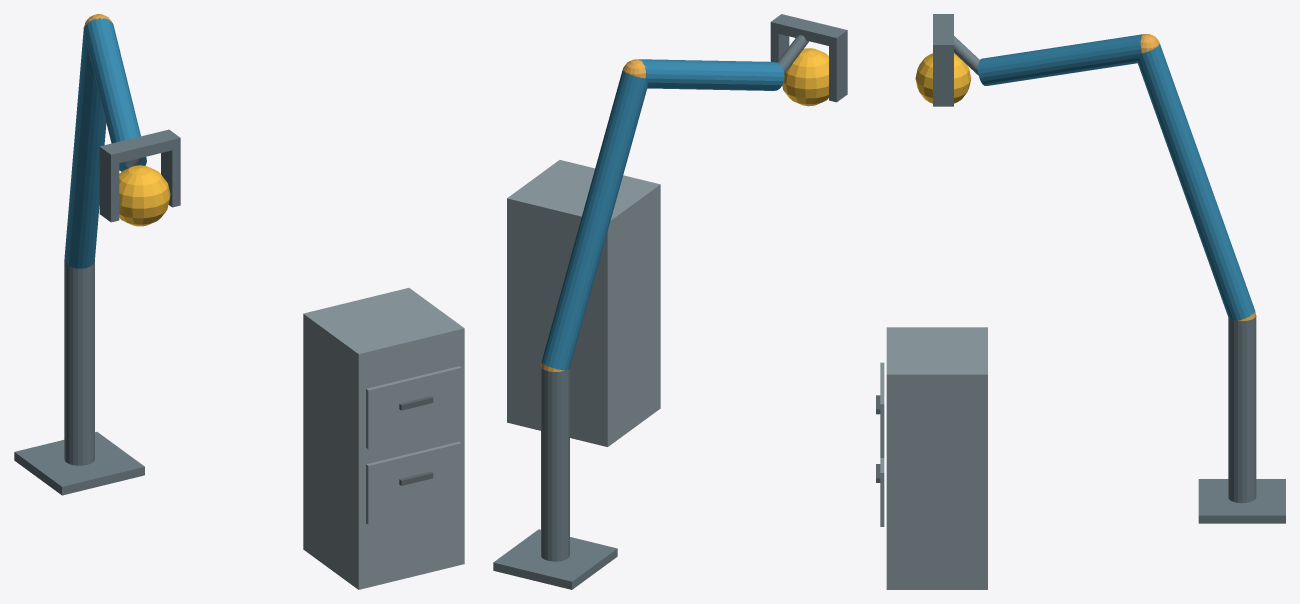
3 views of the same model, side by side, from view 1: azimuth 30°, elevation 25°; view 2: azimuth 150°, elevation 25°; view 3: azimuth 270°, elevation 25° (orthographic). The views are drawn at different scales.
Parts seen in each view (by area): view 1: cabinet_1 body, fixed post, moving link 1, cabinet_1 drawer front, cabinet_1 drawer front.001, pedestal, moving link 2, ball ball_1, gripper bridge, gripper finger -1, gripper finger 1; view 2: cabinet_1 body, moving link 1, fixed post, moving link 2, pedestal, ball ball_1, gripper bridge, gripper finger -1, gripper wrist connector, gripper finger 1; view 3: cabinet_1 body, moving link 1, fixed post, moving link 2, pedestal, ball ball_1, gripper finger 1, gripper bridge.
Boxes of the visible parts, x1,y1,x2,y2 form: cabinet_1 body: (303,288,464,589); fixed post: (64,259,94,465); moving link 1: (64,26,106,268); cabinet_1 drawer front: (366,441,461,524); cabinet_1 drawer front.001: (366,366,461,449); pedestal: (14,432,144,495); moving link 2: (84,18,146,171); ball ball_1: (119,165,170,226); gripper bridge: (99,129,180,165); gripper finger -1: (99,157,119,222); gripper finger 1: (161,148,180,207); cabinet_1 body: (507,160,660,446); moving link 1: (541,70,647,370); fixed post: (541,366,569,561); moving link 2: (639,59,784,90); pedestal: (493,529,617,589); ball ball_1: (782,48,828,106); gripper bridge: (770,14,847,47); gripper finger -1: (829,40,847,102); gripper wrist connector: (777,35,808,73); gripper finger 1: (770,32,789,62); cabinet_1 body: (886,327,987,589); moving link 1: (1137,44,1255,320); fixed post: (1228,315,1256,503); moving link 2: (978,34,1143,85); pedestal: (1198,479,1285,523); ball ball_1: (915,53,971,103); gripper finger 1: (933,54,953,106); gripper bridge: (933,14,953,54).
Bounding box in the file's own units: 0.9905 × 1.44 × 1.17.
